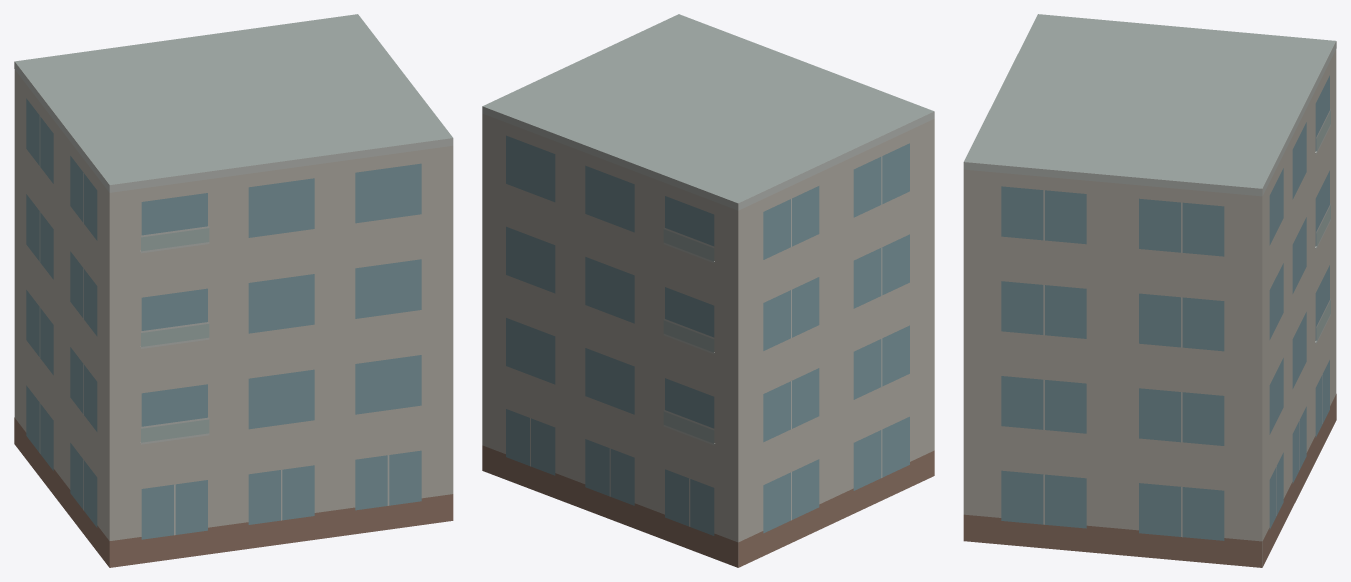
Rendered from residential-fa69dbed-275a-41c9-8932-42e16a403890.glb.
3 views of the same model, side by side, from view 1: azimuth 30°, elevation 25°; view 2: azimuth 150°, elevation 25°; view 3: azimuth 270°, elevation 25° (orthographic). The views are drawn at different scales.
Parts seen in each view (by area): view 1: residential-fa69dbed-275a-41c9-8932-42e16a403890.tmp; view 2: residential-fa69dbed-275a-41c9-8932-42e16a403890.tmp; view 3: residential-fa69dbed-275a-41c9-8932-42e16a403890.tmp.
Boxes of the visible parts, x1,y1,x2,y2 form: residential-fa69dbed-275a-41c9-8932-42e16a403890.tmp: (14,14,453,567); residential-fa69dbed-275a-41c9-8932-42e16a403890.tmp: (482,14,934,567); residential-fa69dbed-275a-41c9-8932-42e16a403890.tmp: (963,14,1336,567).
Bounding box in the file's own units: 12.08 × 12.2 × 10.89.
